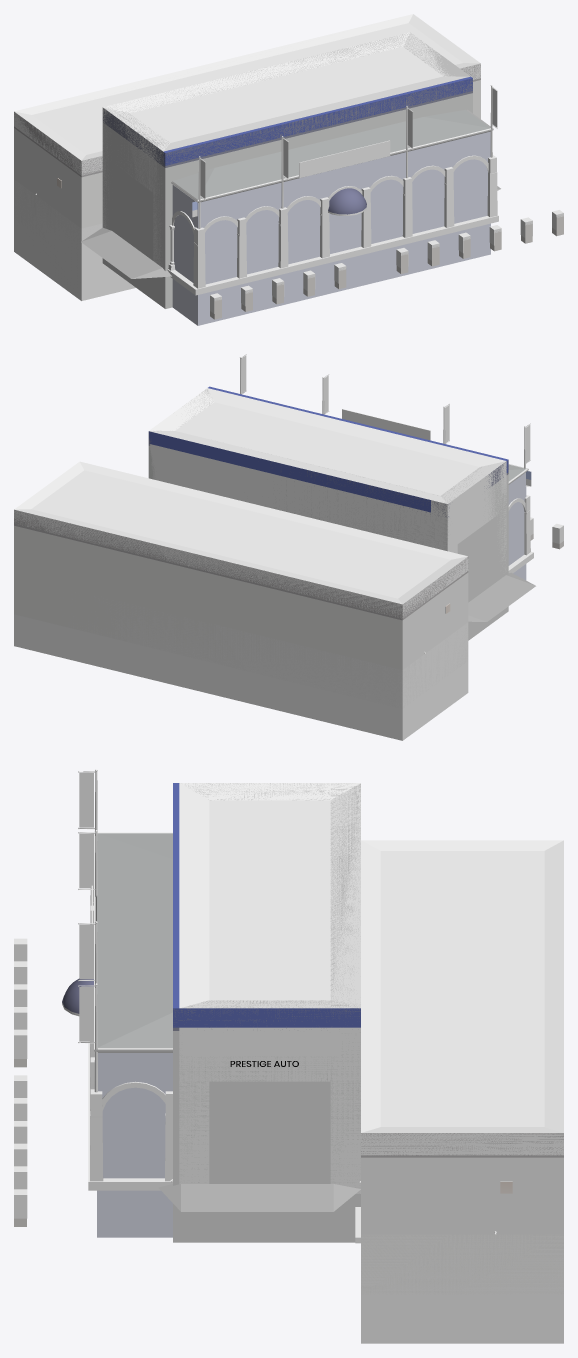
Rendered from dealership_sport.dae.
The picture shows the model from 3 angles, top to bottom: view 1: azimuth 30°, elevation 25°; view 2: azimuth 150°, elevation 25°; view 3: azimuth 270°, elevation 25°; orthographic projection. The views are drawn at different scales.
Parts seen in each view (by area): view 1: Colmesh-1, dealership_sport_a100, dealership_sport_a500, dealership_sport_a250; view 2: Colmesh-1, dealership_sport_a100, dealership_sport_a500; view 3: Colmesh-1, dealership_sport_a100, dealership_sport_a500.
Part boxes in pixels (bbox=[...]): Colmesh-1: bbox=[14, 14, 563, 313]; dealership_sport_a100: bbox=[14, 32, 490, 325]; dealership_sport_a500: bbox=[35, 85, 563, 301]; dealership_sport_a250: bbox=[210, 216, 563, 319]; Colmesh-1: bbox=[14, 386, 563, 740]; dealership_sport_a100: bbox=[14, 388, 526, 708]; dealership_sport_a500: bbox=[240, 354, 533, 653]; Colmesh-1: bbox=[14, 783, 563, 1343]; dealership_sport_a100: bbox=[97, 783, 563, 1294]; dealership_sport_a500: bbox=[62, 769, 512, 1234].
Size of the model in its own units: 39.62 by 30.61 by 18.64.
